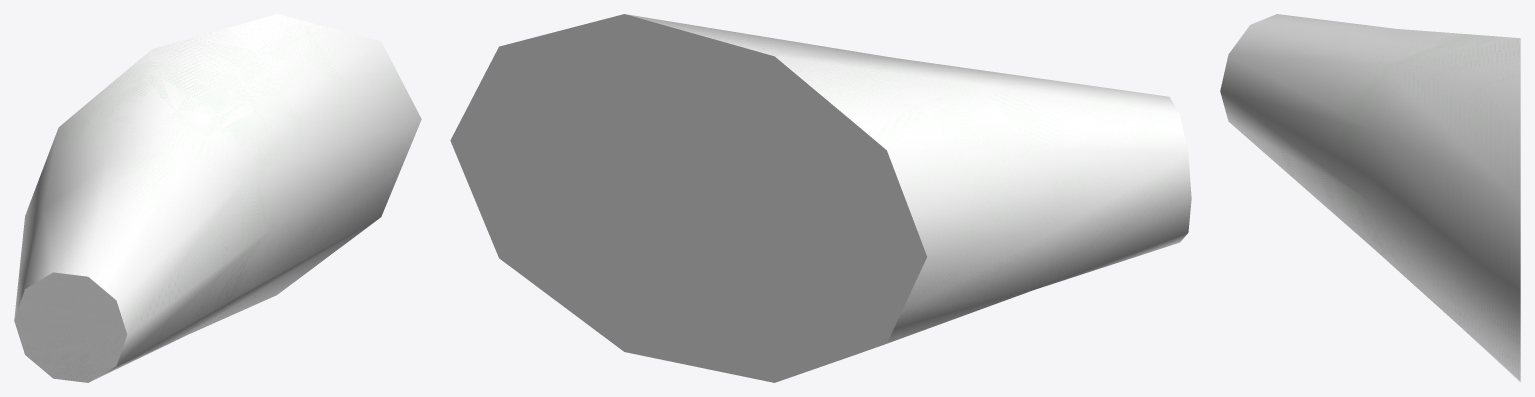
File: original-33.obj
The picture shows the model from 3 angles, left to right: view 1: azimuth 30°, elevation 25°; view 2: azimuth 150°, elevation 25°; view 3: azimuth 270°, elevation 25°; orthographic projection. The views are drawn at different scales.
Visible parts, largest first — view 1: mesh24/mesh24-geometry#mesh24-geometry; view 2: mesh24/mesh24-geometry#mesh24-geometry; view 3: mesh24/mesh24-geometry#mesh24-geometry.
Boxes of the visible parts, box(x1,y1,x2,y2) form: mesh24/mesh24-geometry#mesh24-geometry: box(14, 14, 421, 382); mesh24/mesh24-geometry#mesh24-geometry: box(450, 14, 1191, 382); mesh24/mesh24-geometry#mesh24-geometry: box(1220, 14, 1520, 382).
Bounding box in the file's own units: 0.0432 × 0.0226 × 0.0215.
